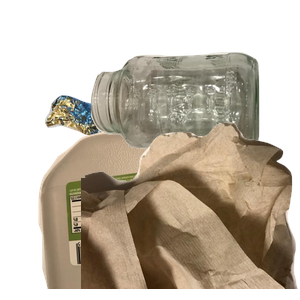glass: (88, 50, 300, 194)
metal: (42, 72, 239, 229)
plastic: (36, 120, 265, 300)
trash: (81, 120, 300, 300)
